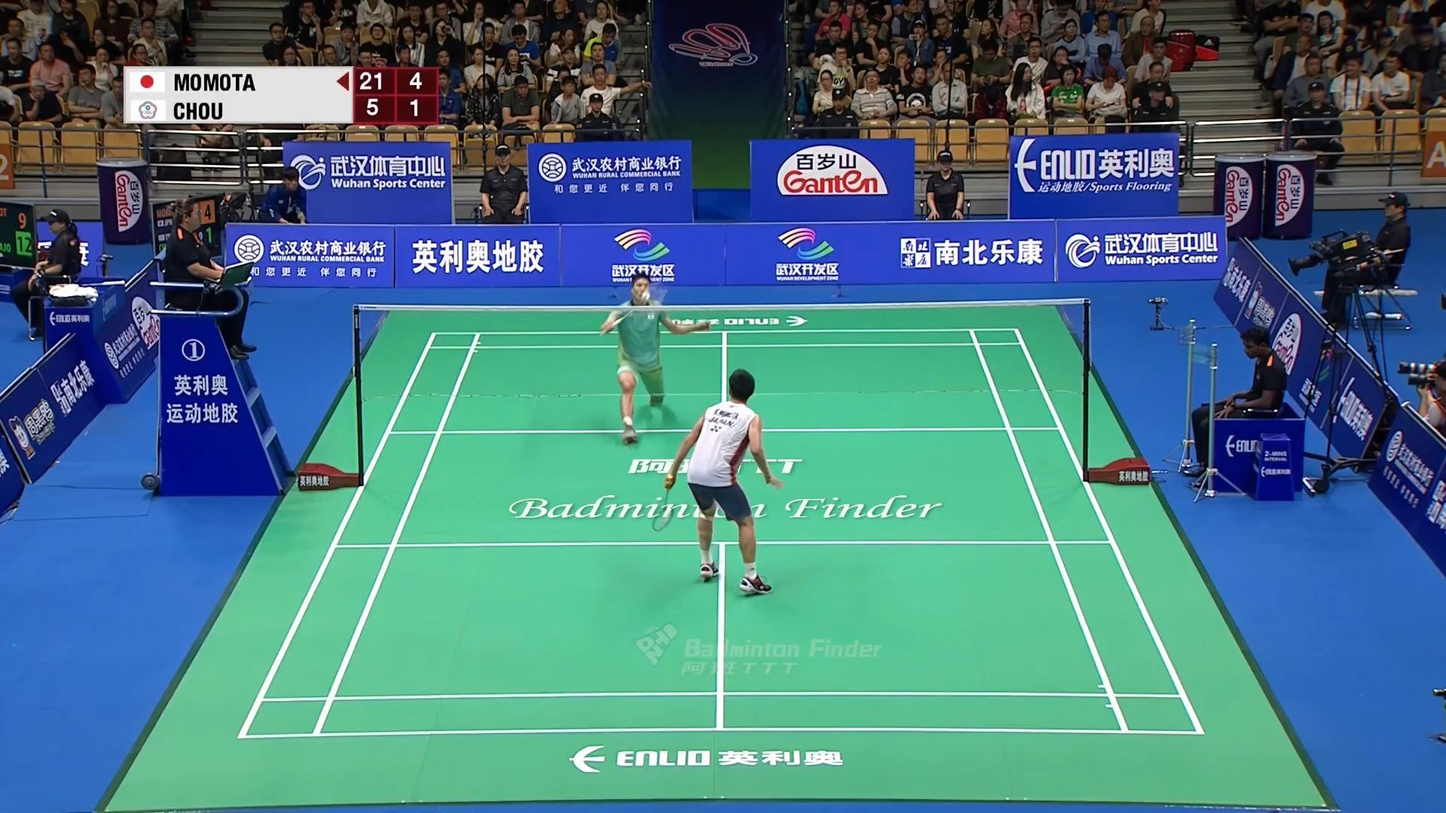player: (664, 370, 783, 596), (599, 271, 711, 443)
shuttlecock: (640, 292, 649, 303)
